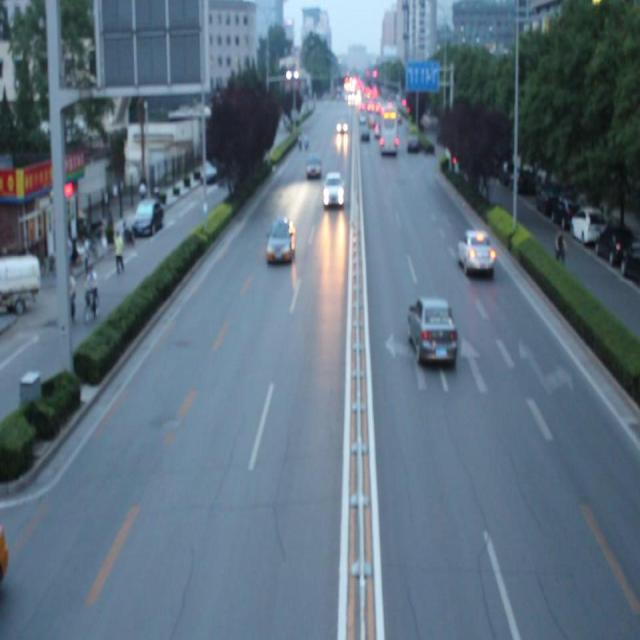car: (407, 296, 457, 365), (458, 228, 494, 274), (266, 218, 296, 262), (321, 171, 344, 208)
